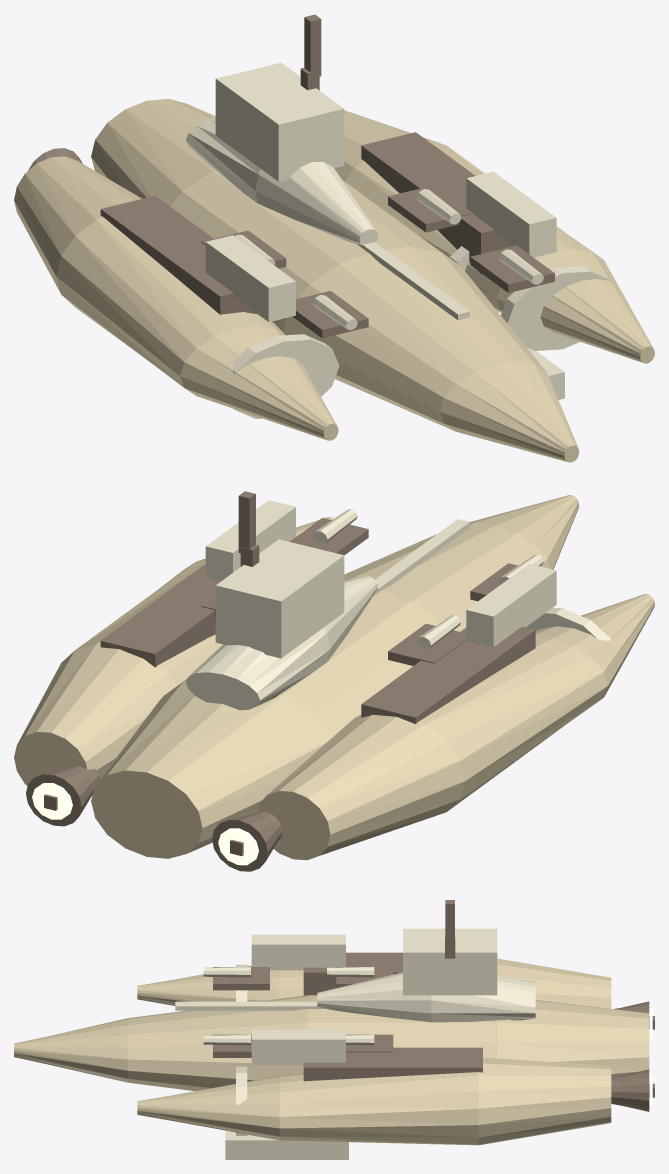
The picture shows the model from 3 angles, top to bottom: view 1: azimuth 30°, elevation 25°; view 2: azimuth 150°, elevation 25°; view 3: azimuth 270°, elevation 25°; orthographic projection. The views are drawn at different scales.
Size of the model in its own units: 15.67 by 10.32 by 27.19.
